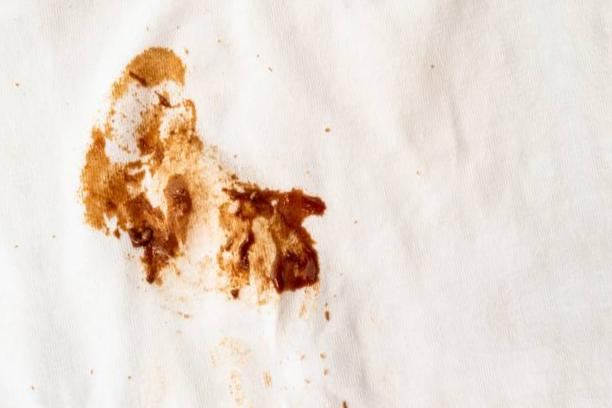stain: (77, 42, 330, 302)
